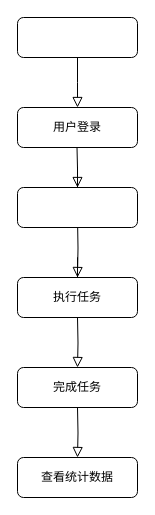
Image size: 155x515. Some labels were removed from this diagram. The shapes that lost their labels are listed below. From the top down, each one's box as (x1, y1, x2, y2) in pixels, then its label:
(16, 16, 138, 58): 用户注册
(16, 186, 138, 228): 添加任务
